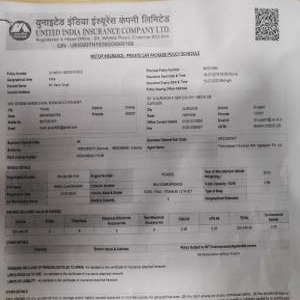image: (6, 14, 33, 48)
table: (3, 166, 288, 203), (5, 60, 289, 97), (7, 97, 289, 132), (4, 133, 289, 164), (4, 209, 288, 239)
text: (33, 14, 170, 48), (5, 263, 171, 282), (89, 49, 202, 61)
